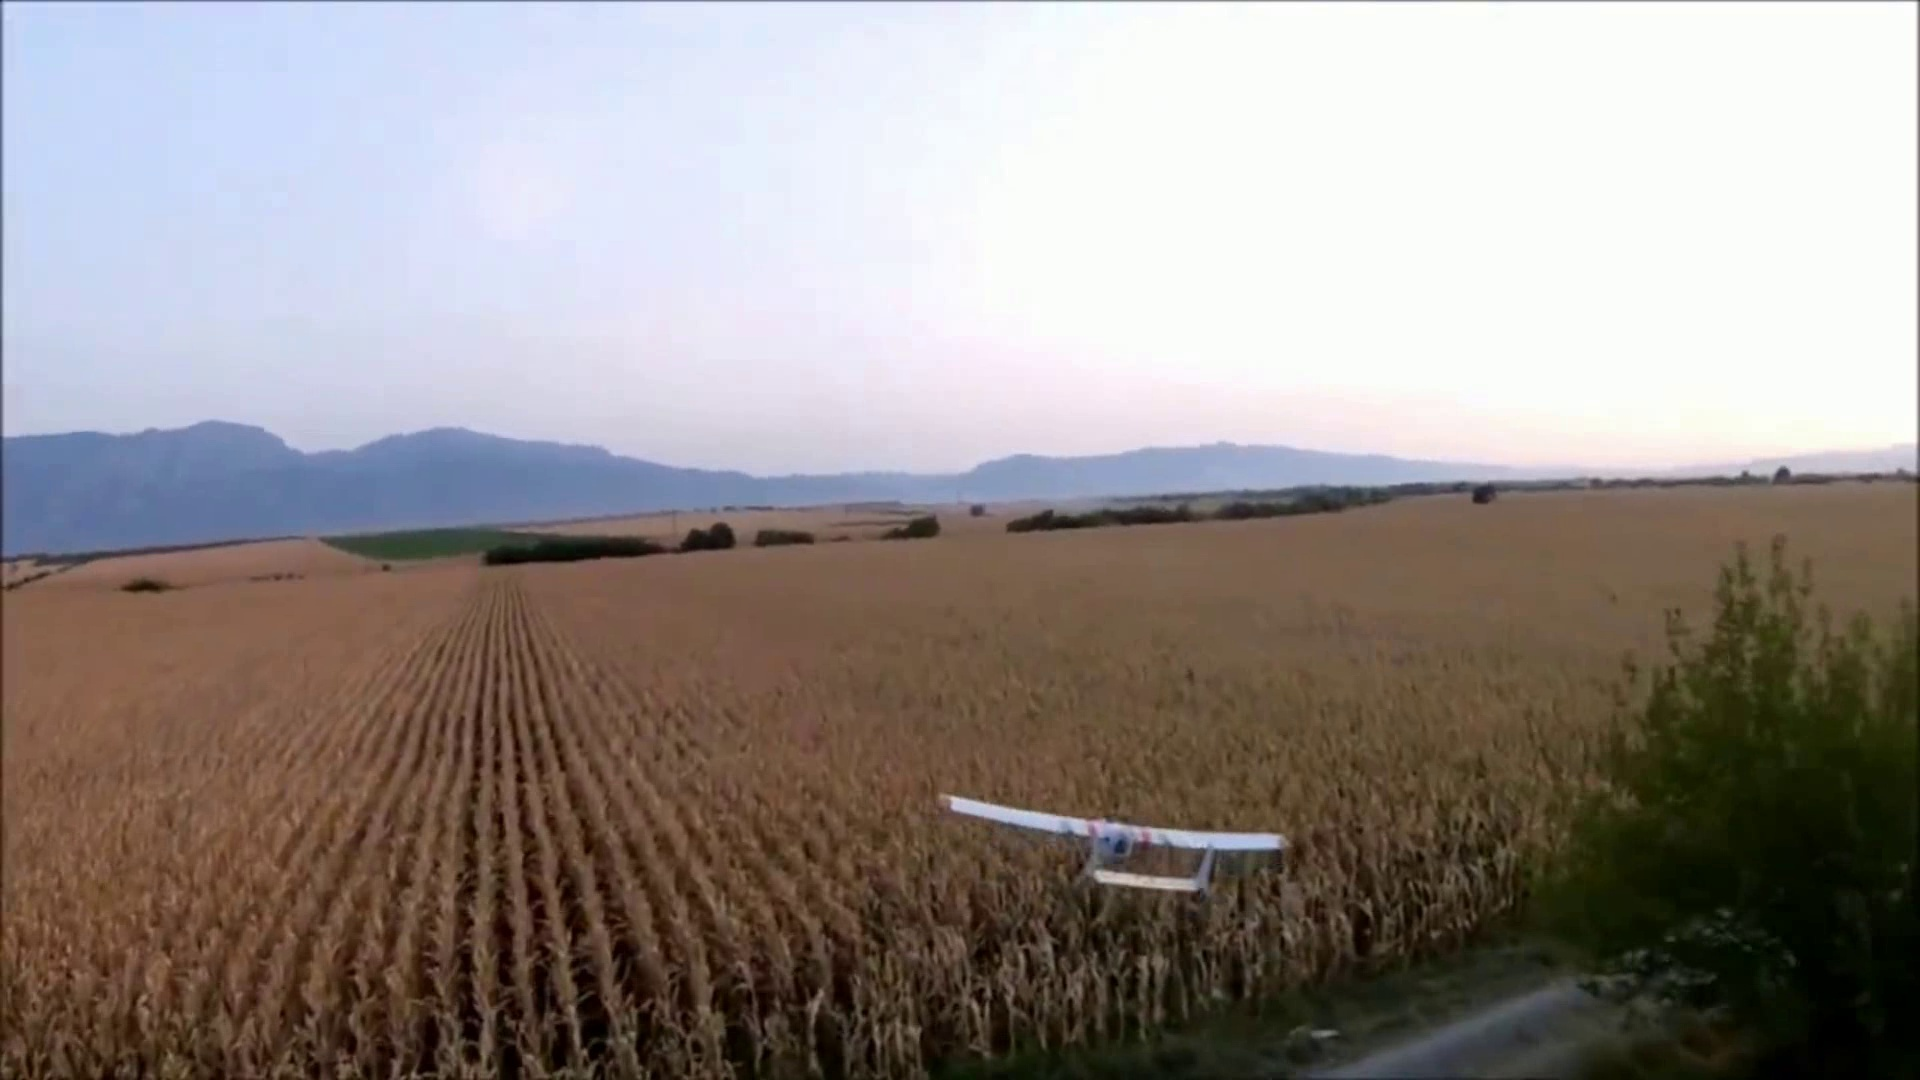airplane: (937, 793, 1289, 898)
